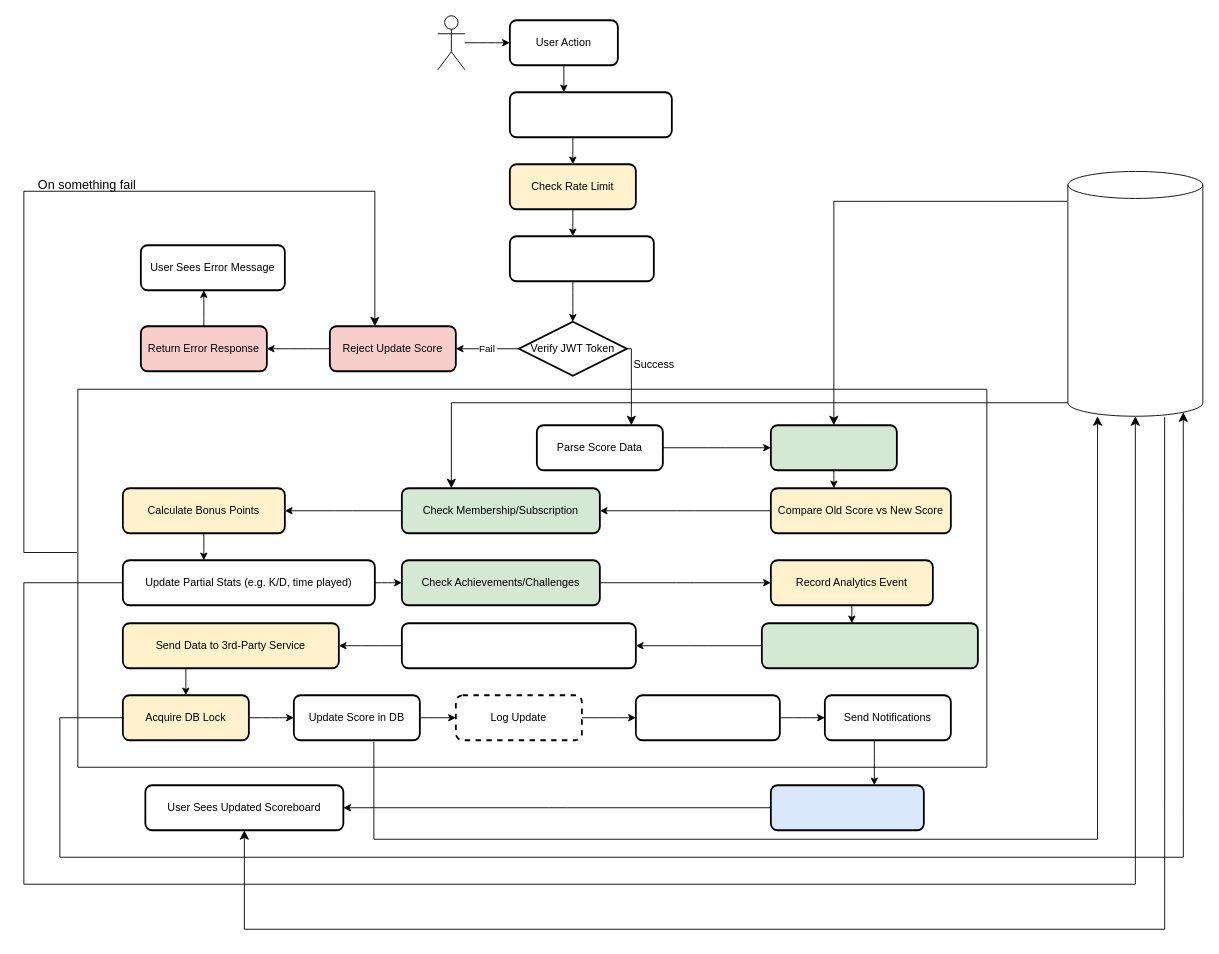
Image size: 1219x954. Some labels were removed from this diagram. Here are the shapes that lost their labels. From the top down, the centre of each, then its label:
At (x=451, y=42): "Actor (User)".
At (x=590, y=114): "API Receives Score Update".
At (x=581, y=258): "Validate Request Data".
At (x=1135, y=293): "DATABASE".
At (x=833, y=447): "Load User Profile".
At (x=518, y=645): "Enqueue Tasks for Async Processing".
At (x=869, y=645): "Check Special Events/Promotions".
At (x=707, y=717): "Broadcast to Clients".
At (x=847, y=807): "Return Success Response".
